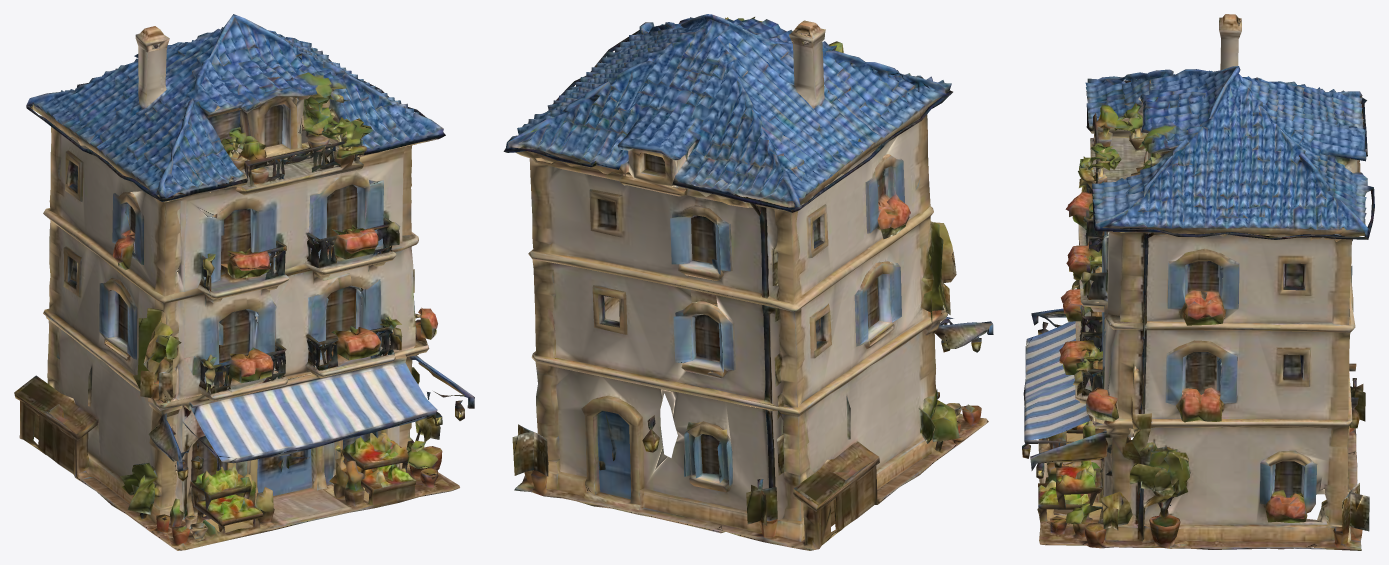
The model's file is candidate.glb.
3 views of the same model, side by side, from view 1: azimuth 30°, elevation 25°; view 2: azimuth 150°, elevation 25°; view 3: azimuth 270°, elevation 25° (orthographic). The views are drawn at different scales.
Visible parts, largest first — view 1: harbor__shop_3__native_mobile; view 2: harbor__shop_3__native_mobile; view 3: harbor__shop_3__native_mobile.
Part boxes in pixels (x1=…): harbor__shop_3__native_mobile: x1=14, y1=14, x2=474, y2=550; harbor__shop_3__native_mobile: x1=503, y1=14, x2=993, y2=550; harbor__shop_3__native_mobile: x1=1022, y1=14, x2=1374, y2=550.
Bounding box in the file's own units: 0.7341 × 1 × 0.7369.
Materials: 1 (1 with a texture image).
